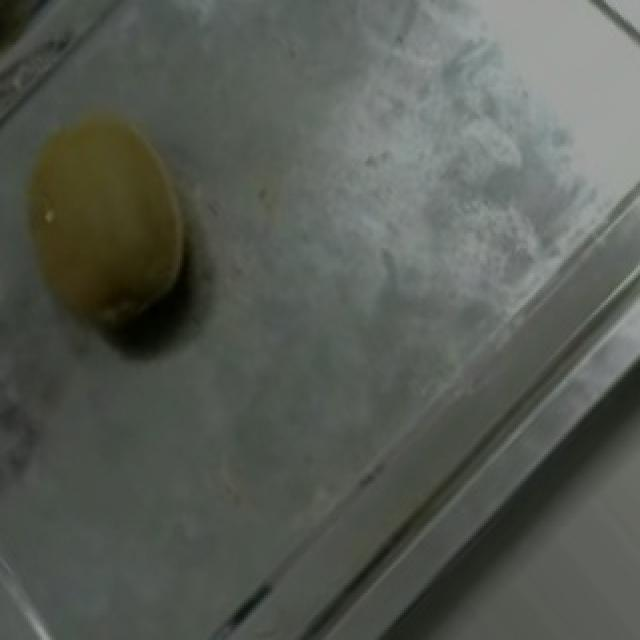Fruit: (0, 77, 232, 350)
